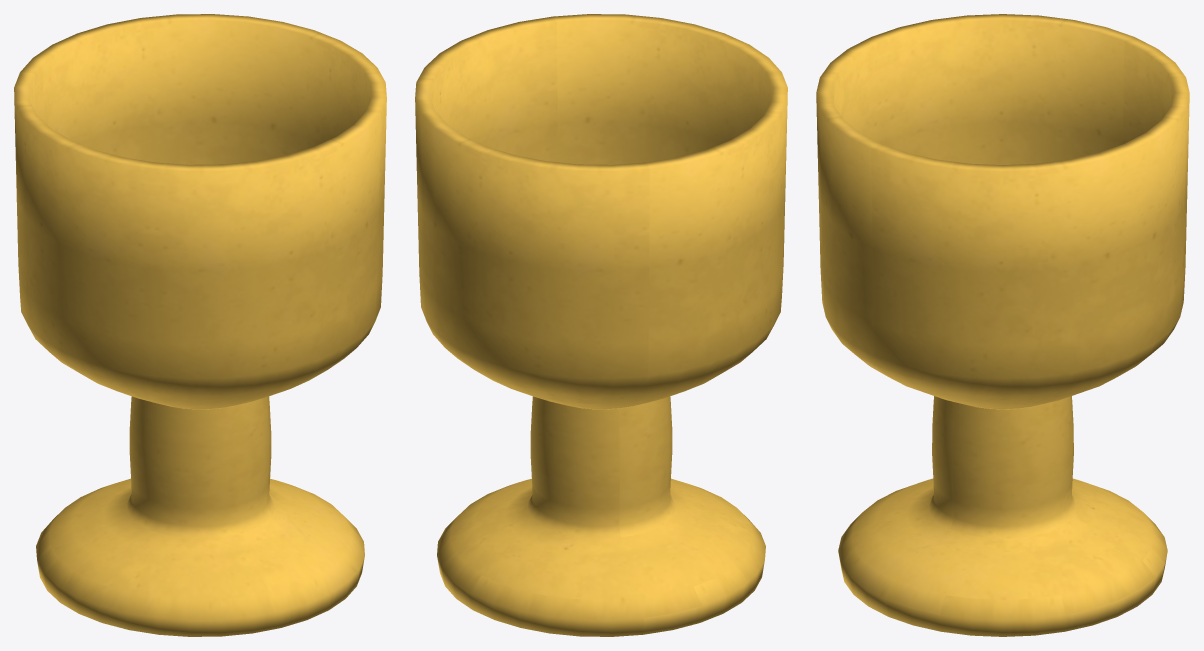
Rendered from GoldCup.fbx.
3 views of the same model, side by side, from view 1: azimuth 30°, elevation 25°; view 2: azimuth 150°, elevation 25°; view 3: azimuth 270°, elevation 25° (orthographic).
Visible parts, largest first — view 1: Vert.001; view 2: Vert.001; view 3: Vert.001.
Boxes of the visible parts, <box> form: Vert.001: <box>14,14,386,636</box>; Vert.001: <box>415,14,787,636</box>; Vert.001: <box>816,14,1189,636</box>.
Size of the model in its own units: 12.34 by 17.53 by 12.34.
1 material, 1 textured.
